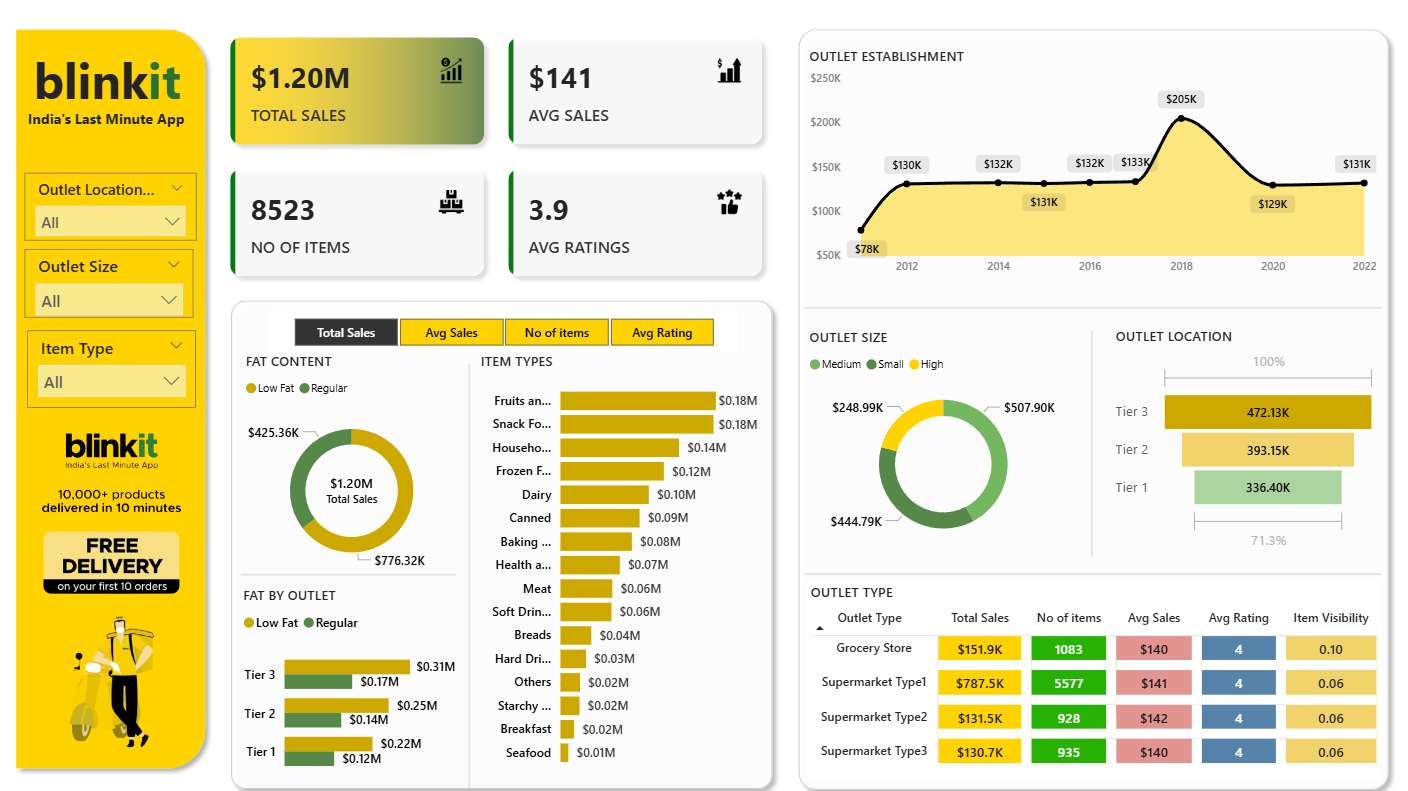

Layout of this report page (visuals, bound fields, positions):
{"tool":"powerbi","page":{"name":"Blinkit Overview","canvas":[1400,800],"ordinal":1},"visuals":[{"type":"shape","box":[9.4,25.5,205.1,749.3],"z":0},{"type":"textbox","box":[26.8,46.9,163.5,77.7],"z":1000},{"type":"textbox","box":[22.8,108.6,171.6,36.2],"z":2000},{"type":"cardVisual","fields":{"Data":["BlinkIT Grocery Data.Total Sales","BlinkIT Grocery Data.Avg Sales","BlinkIT Grocery Data.Number of items","BlinkIT Grocery Data.Avg Rating"]},"box":[214.5,25.5,561.7,270.8],"z":3000},{"type":"shape","box":[222.5,294.9,553.6,501.3],"z":4000},{"type":"donutChart","title":"FAT CONTENT","fields":{"Y":["BlinkIT Grocery Data.NO of items"],"Category":["BlinkIT Grocery Data.Item Fat Content"]},"box":[241.3,353.9,219.8,230.6],"z":5000},{"type":"slicer","fields":{"Values":[" Metrics. Metrics"]},"box":[268.1,313.7,465.1,40.2],"z":6000},{"type":"cardVisual","fields":{"Data":["BlinkIT Grocery Data.NO of items"]},"box":[300.3,457.1,101.9,59],"z":7000},{"type":"clusteredBarChart","title":"FAT BY OUTLET","fields":{"Y":["BlinkIT Grocery Data.NO of items"],"Category":["BlinkIT Grocery Data.Outlet Location Type"],"Series":["BlinkIT Grocery Data.Item Fat Content"]},"box":[239.1,585,220,200.9],"z":8000},{"type":"shape","box":[241.3,565.7,213.1,18.8],"z":9000},{"type":"shape","box":[461.1,366,12.1,419.6],"z":10000},{"type":"barChart","title":"ITEM TYPES","fields":{"Y":["BlinkIT Grocery Data.NO of items"],"Category":["BlinkIT Grocery Data.Item Type"]},"box":[473.2,353.9,284.2,420.9],"z":11000},{"type":"shape","box":[784.2,25.5,601.9,770.8],"z":12000},{"type":"lineChart","title":"OUTLET ESTABLISHMENT ","fields":{"Category":["BlinkIT Grocery Data.Outlet Establishment Year"],"Y":["BlinkIT Grocery Data.Total Sales"]},"box":[798.9,52.3,571,234.6],"z":13000},{"type":"shape","box":[798.7,301.6,571,17.4],"z":14000},{"type":"donutChart","title":"OUTLET SIZE ","fields":{"Y":["BlinkIT Grocery Data.Total Sales"],"Category":["BlinkIT Grocery Data.Outlet Size"]},"box":[798.7,330,275,225],"z":15000},{"type":"shape","box":[1077.5,332.7,12.1,223.9],"z":16000},{"type":"funnel","title":"OUTLET LOCATION","fields":{"Y":["Sum(BlinkIT Grocery Data.Sales)"],"Category":["BlinkIT Grocery Data.Outlet Location Type"]},"box":[1101.6,328.7,268.1,226.5],"z":17000},{"type":"shape","box":[798.9,565.7,571,17.4],"z":18000},{"type":"pivotTable","title":"OUTLET TYPE","fields":{"Rows":["BlinkIT Grocery Data.Outlet Type"],"Values":["BlinkIT Grocery Data.Total Sales","BlinkIT Grocery Data.NO of items","BlinkIT Grocery Data.Avg Sales","BlinkIT Grocery Data.Avg Rating","Avg(BlinkIT Grocery Data.Item Visibility)"]},"box":[800.3,583.1,569.7,197.1],"z":19000},{"type":"slicer","fields":{"Values":["BlinkIT Grocery Data.Outlet Location Type"]},"box":[26.8,176.9,170.2,67],"z":20000},{"type":"slicer","fields":{"Values":["BlinkIT Grocery Data.Outlet Size"]},"box":[27.2,252.3,170.7,76.7],"z":21000},{"type":"slicer","fields":{"Values":["BlinkIT Grocery Data.Item Type"]},"box":[29.5,332.4,167.6,76.4],"z":22000},{"type":"image","box":[29.7,420.5,167,335.2],"z":23000}]}

Visuals, with their boxes in screenshot pixels (x1, y1, x2, y2), scaled from the page's 1400x800 canvas onto the 1408x791 screenshot:
shape: bbox(9, 25, 216, 766)
textbox: bbox(27, 46, 191, 123)
textbox: bbox(23, 107, 196, 143)
cardVisual - BlinkIT Grocery Data.Total Sales x BlinkIT Grocery Data.Avg Sales: bbox(216, 25, 781, 293)
shape: bbox(224, 292, 781, 787)
"FAT CONTENT" donutChart: bbox(243, 350, 464, 578)
slicer -  Metrics. Metrics: bbox(270, 310, 737, 350)
cardVisual - BlinkIT Grocery Data.NO of items: bbox(302, 452, 404, 510)
"FAT BY OUTLET" clusteredBarChart: bbox(240, 578, 462, 777)
shape: bbox(243, 559, 457, 578)
shape: bbox(464, 362, 476, 777)
"ITEM TYPES" barChart: bbox(476, 350, 762, 766)
shape: bbox(789, 25, 1394, 787)
"OUTLET ESTABLISHMENT " lineChart: bbox(803, 52, 1378, 284)
shape: bbox(803, 298, 1378, 315)
"OUTLET SIZE " donutChart: bbox(803, 326, 1080, 549)
shape: bbox(1084, 329, 1096, 550)
"OUTLET LOCATION" funnel: bbox(1108, 325, 1378, 549)
shape: bbox(803, 559, 1378, 577)
"OUTLET TYPE" pivotTable: bbox(805, 577, 1378, 771)
slicer - BlinkIT Grocery Data.Outlet Location Type: bbox(27, 175, 198, 241)
slicer - BlinkIT Grocery Data.Outlet Size: bbox(27, 249, 199, 325)
slicer - BlinkIT Grocery Data.Item Type: bbox(30, 329, 198, 404)
image: bbox(30, 416, 198, 747)
